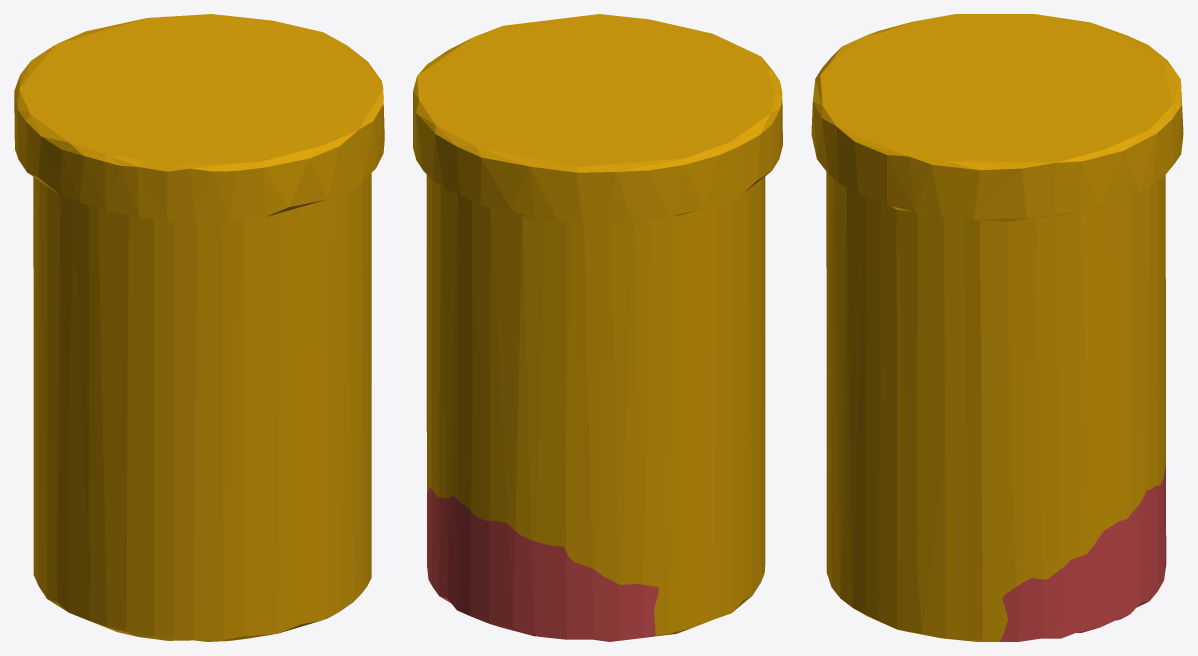
File: fractured_58_2pcs.glb
3 renders of one model, left to right at view 1: azimuth 30°, elevation 25°; view 2: azimuth 150°, elevation 25°; view 3: azimuth 270°, elevation 25°, orthographic.
Visible parts, largest first — view 1: piece_0.obj; view 2: piece_0.obj, piece_1.obj; view 3: piece_0.obj, piece_1.obj.
Part boxes in pixels (bbox=[...]): piece_0.obj: bbox=[14, 14, 384, 641]; piece_0.obj: bbox=[413, 14, 782, 636]; piece_1.obj: bbox=[427, 487, 658, 641]; piece_0.obj: bbox=[811, 14, 1183, 641]; piece_1.obj: bbox=[1000, 466, 1166, 641].
Bounding box in the file's own units: 0.6918 × 1 × 0.6941.
